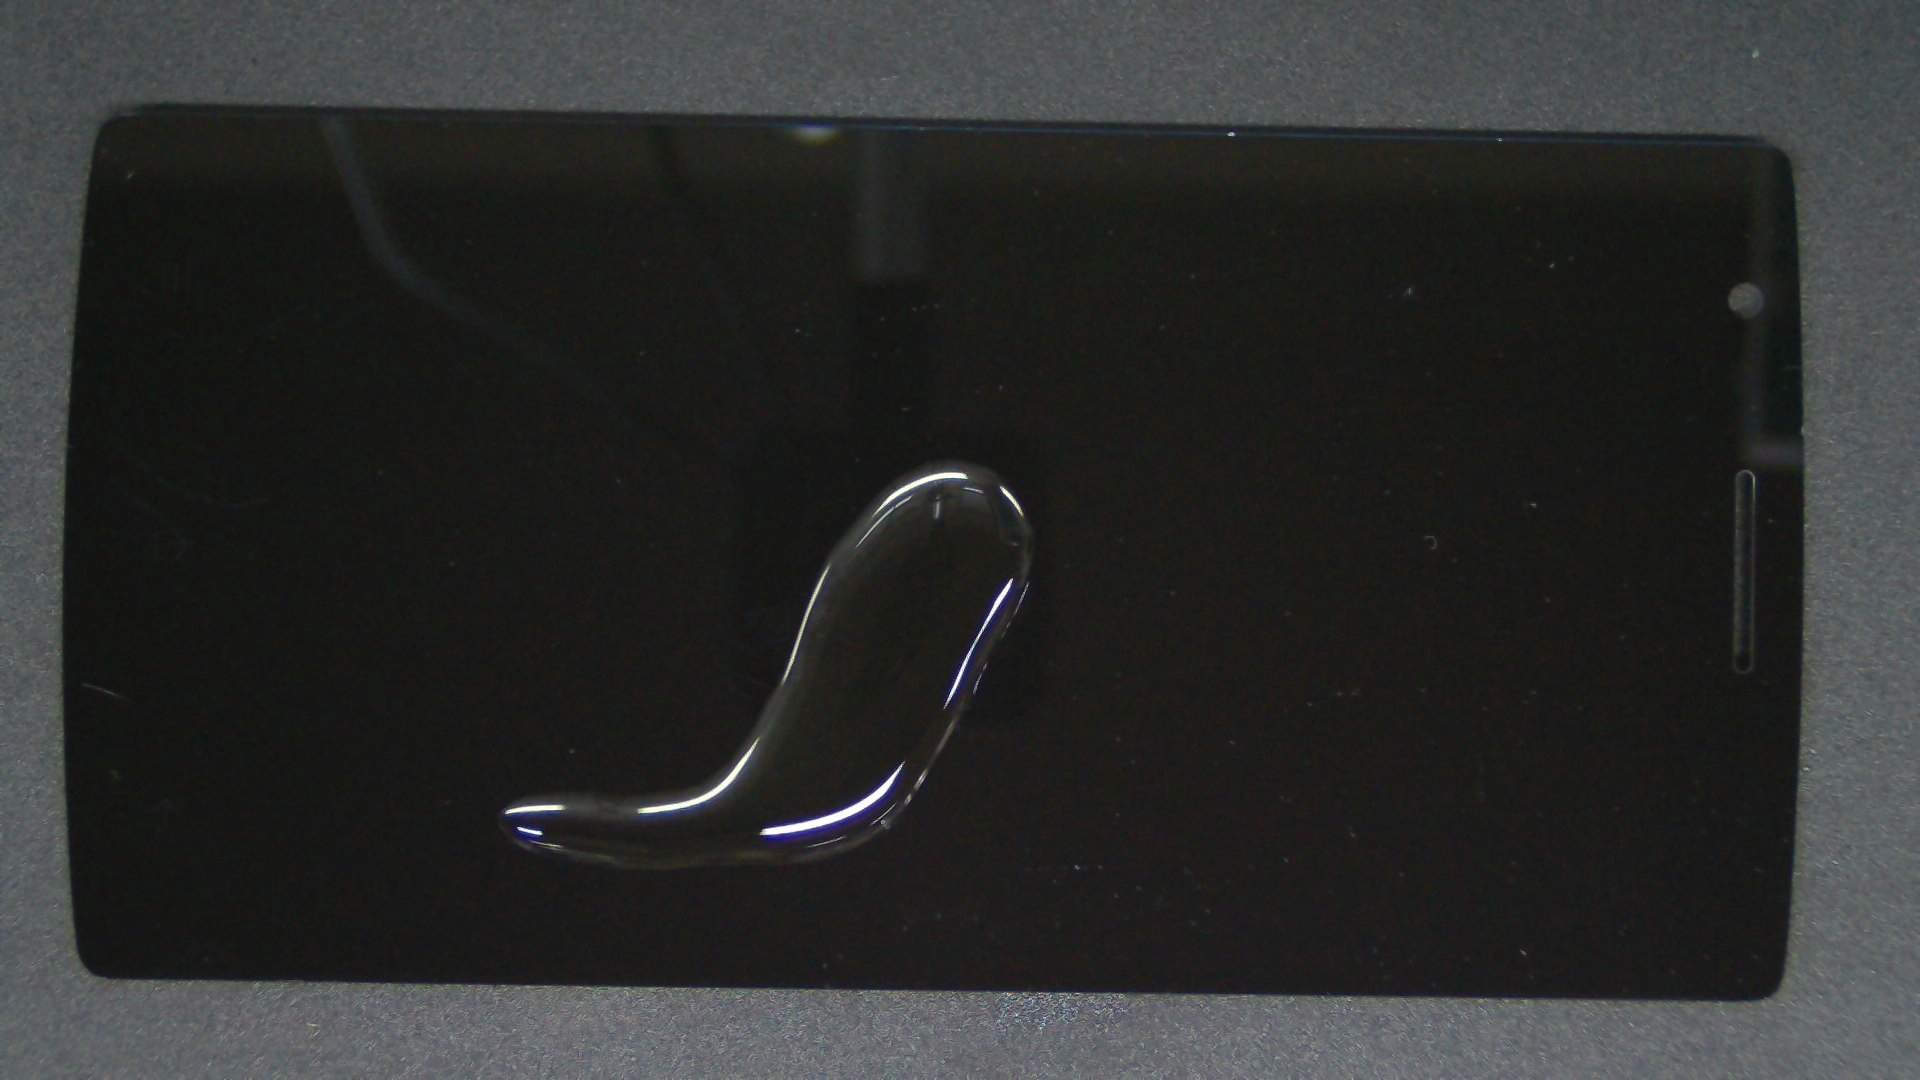oil: (467, 229, 1399, 688)
